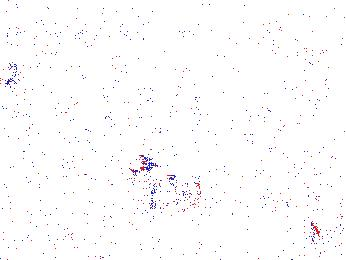flame jellyfish: (129, 154, 202, 216), (310, 185, 346, 245), (1, 44, 20, 85)
